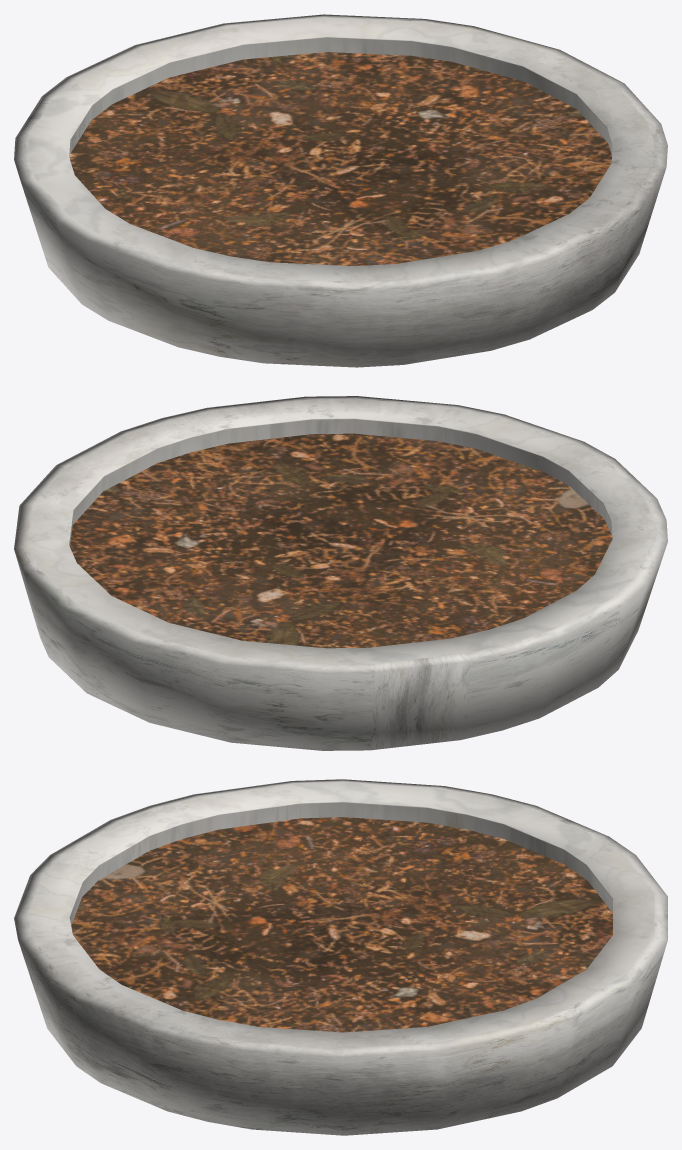
The model's file is Pot.fbx.
3 renders of one model, top to bottom at view 1: azimuth 30°, elevation 25°; view 2: azimuth 150°, elevation 25°; view 3: azimuth 270°, elevation 25°, orthographic.
Visible parts, largest first — view 1: Pot; view 2: Pot; view 3: Pot.
Part boxes in pixels (left/top/right/bottom): Pot: left=14, top=14, right=667, bottom=367; Pot: left=14, top=396, right=667, bottom=750; Pot: left=14, top=779, right=667, bottom=1135.
Size of the model in its own units: 33.45 by 5.73 by 33.24.
